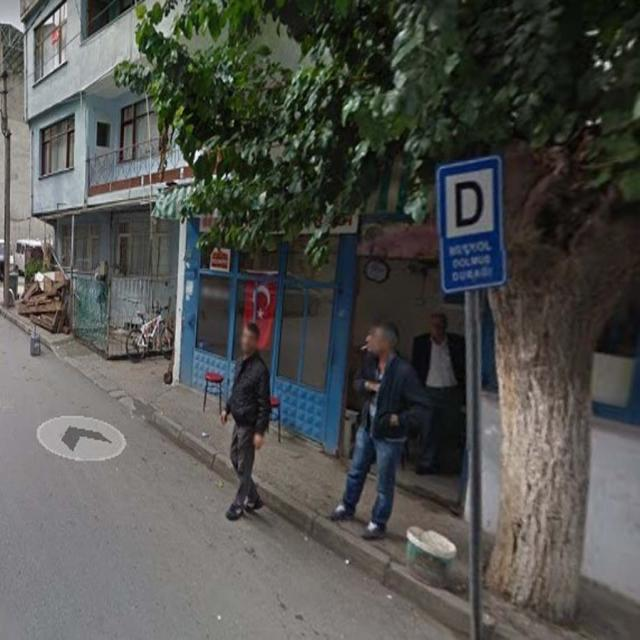durak: (438, 156, 503, 240)
